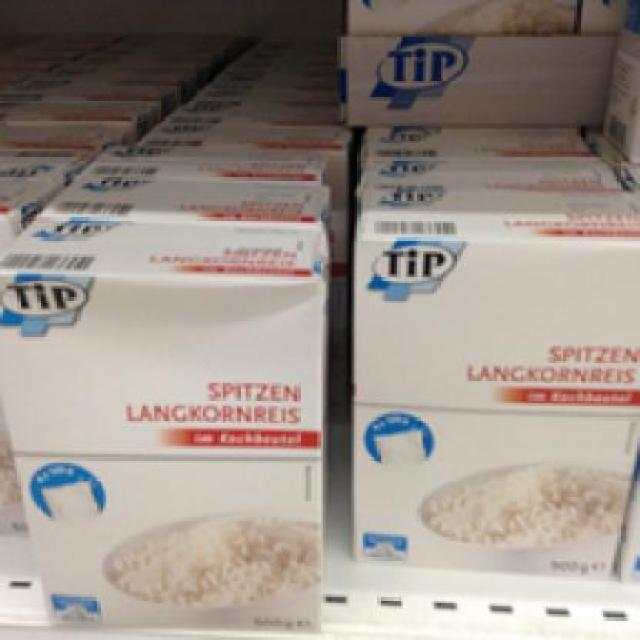Rice: (0, 220, 329, 629), (346, 194, 637, 577)
